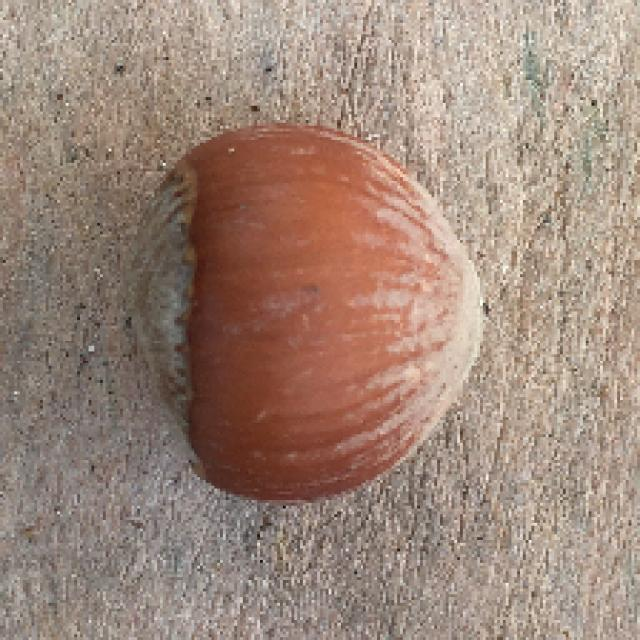QualityHazelnut: (127, 126, 489, 504)
